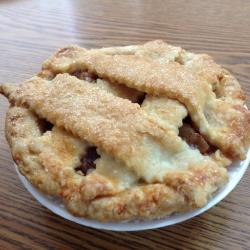apple_pie: (7, 46, 250, 231)
